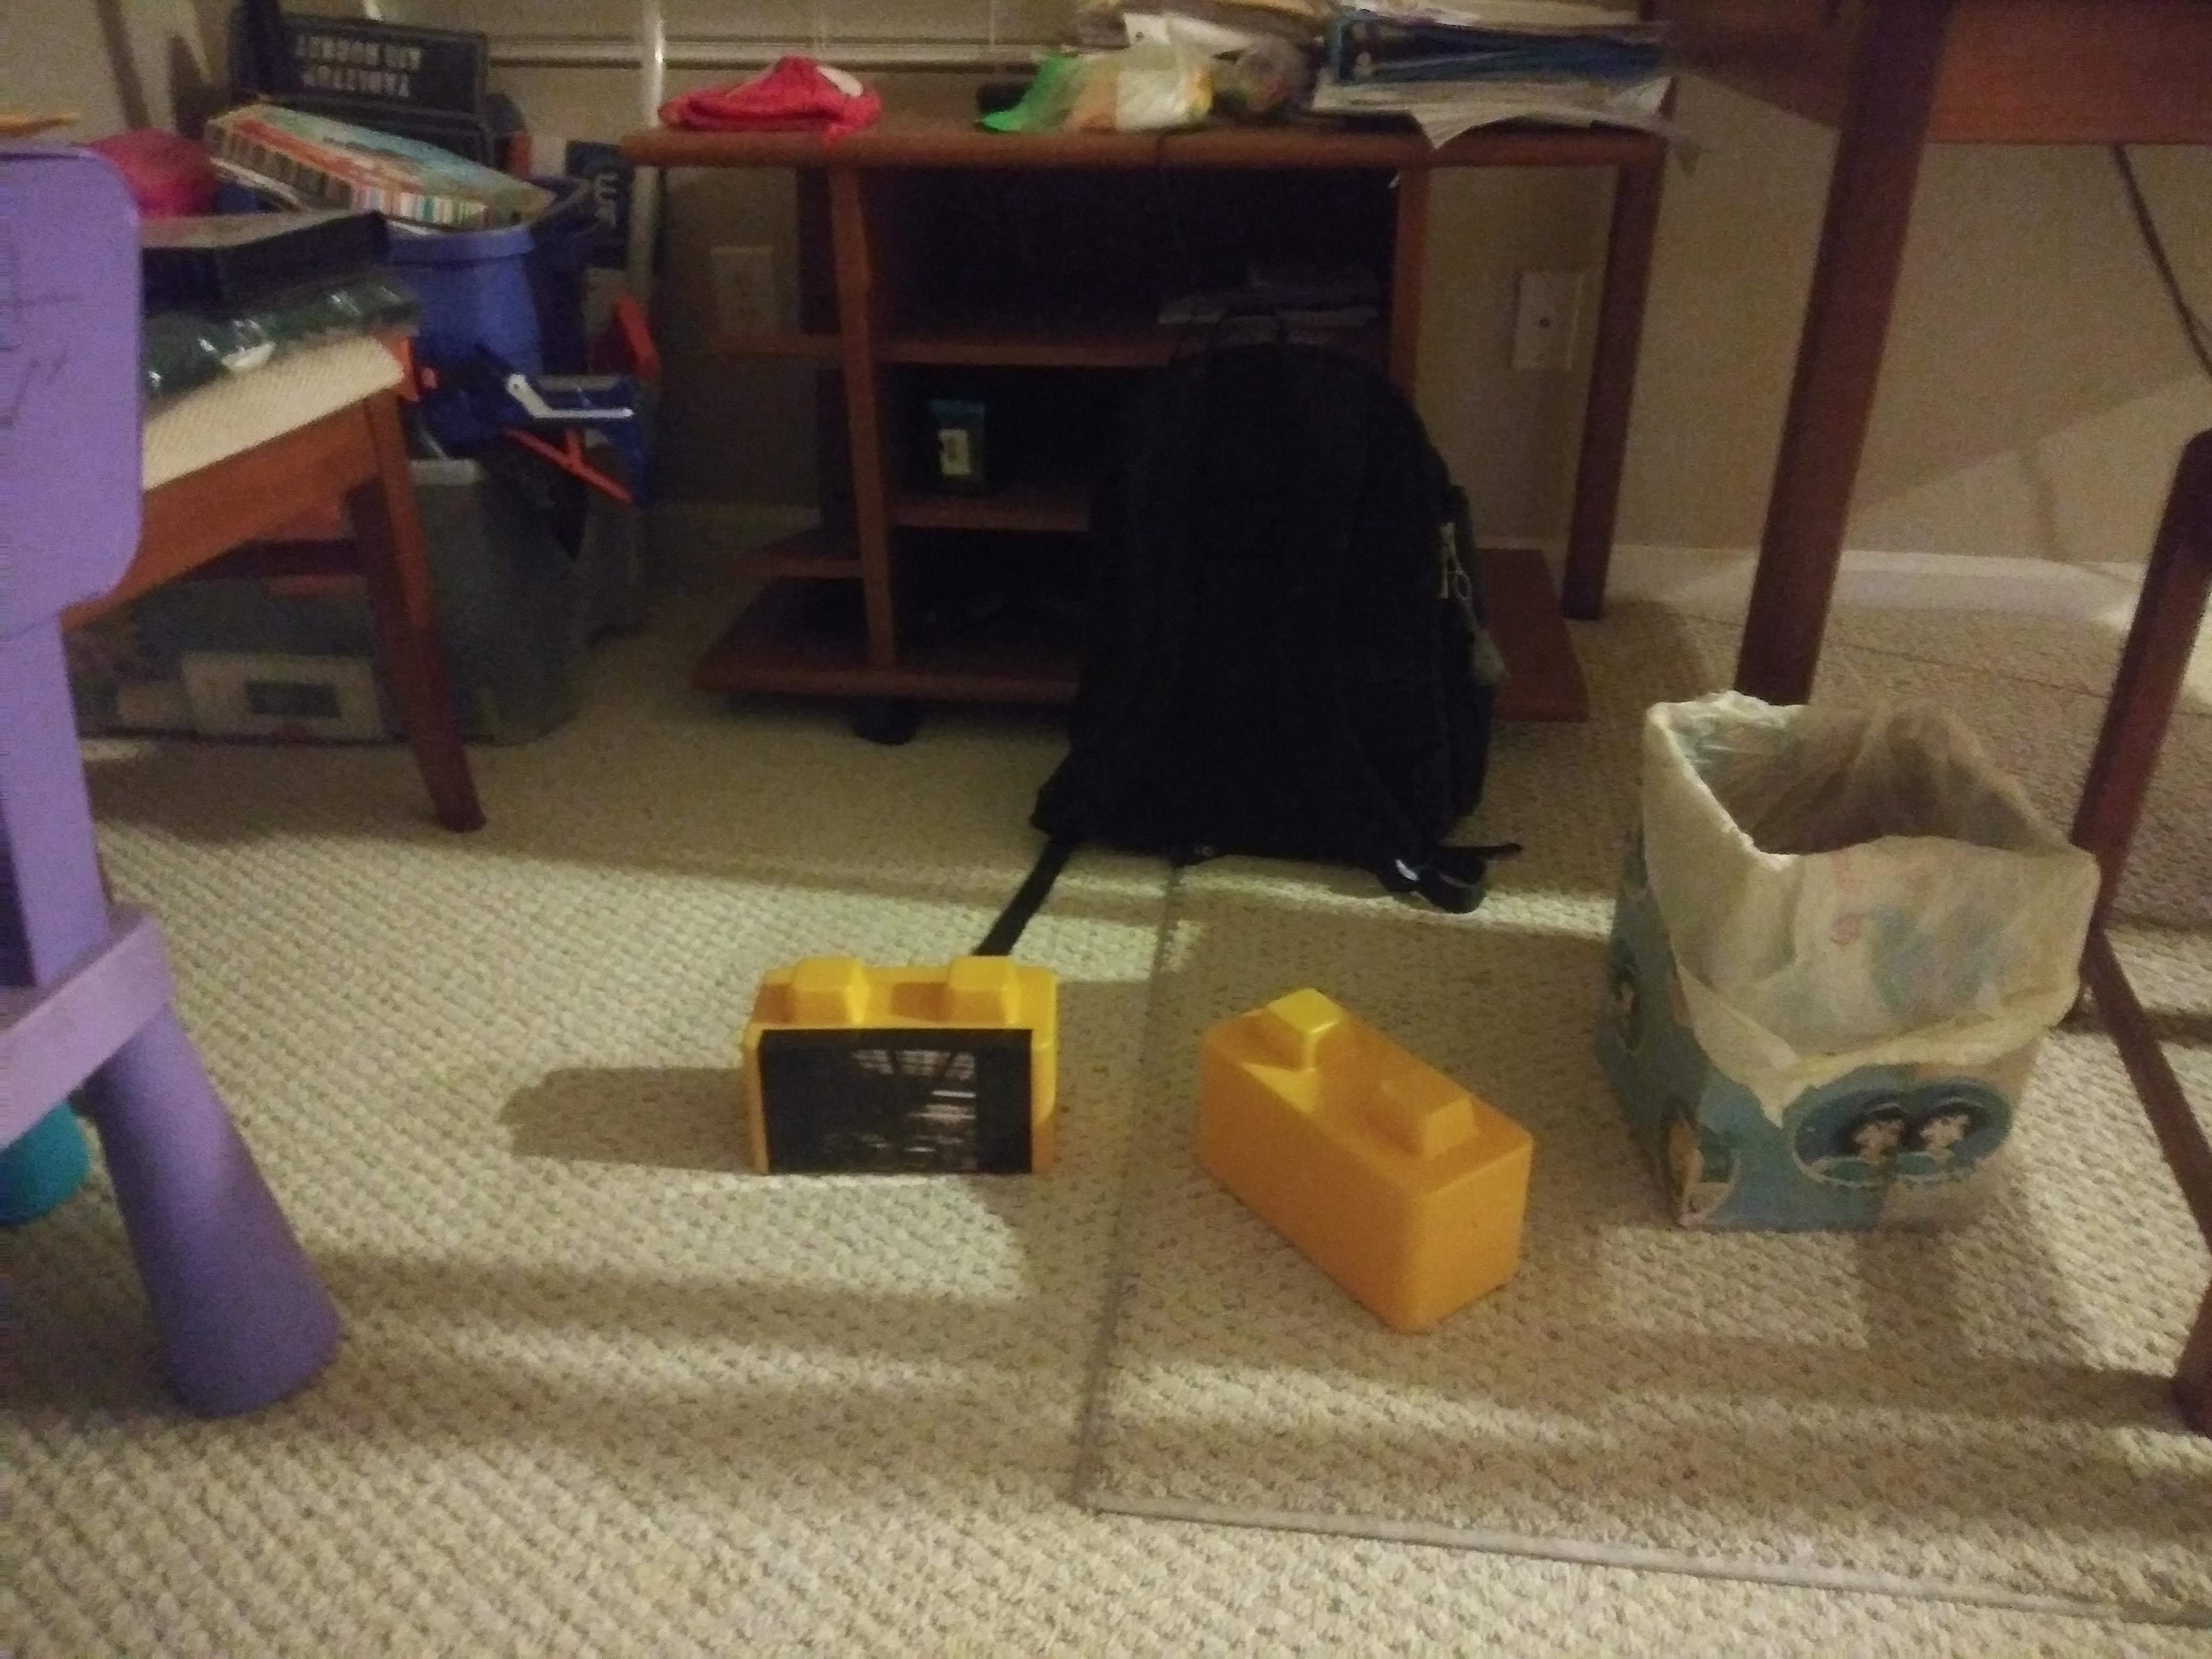skystone: (749, 974, 1061, 1166)
stone: (1198, 1012, 1521, 1307)
